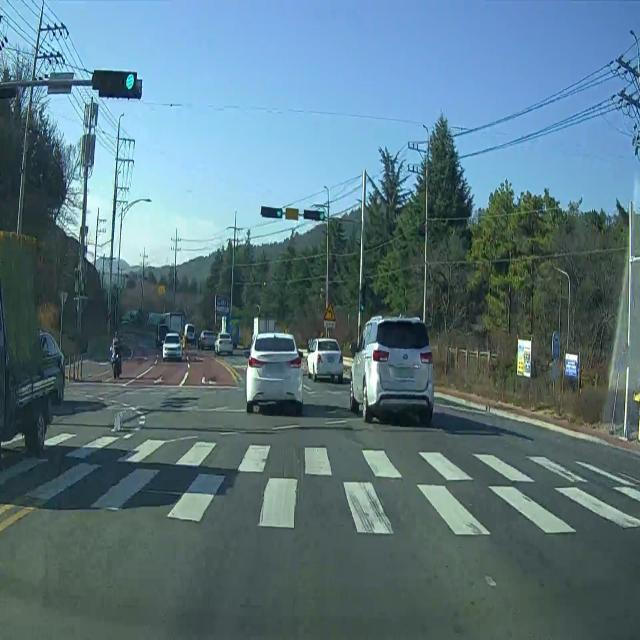crosswalk: (0, 422, 640, 536)
